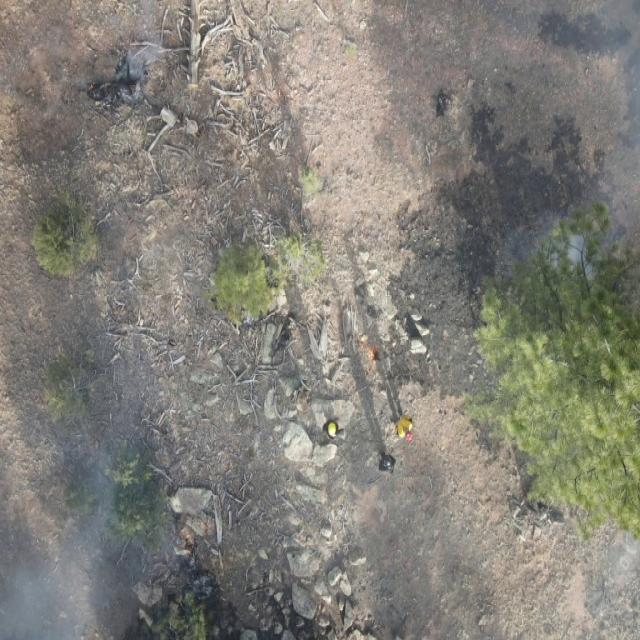fire: (359, 339, 383, 379), (81, 78, 100, 101)
smoke: (0, 441, 176, 640), (583, 0, 640, 152), (513, 210, 602, 278), (115, 24, 171, 106)
